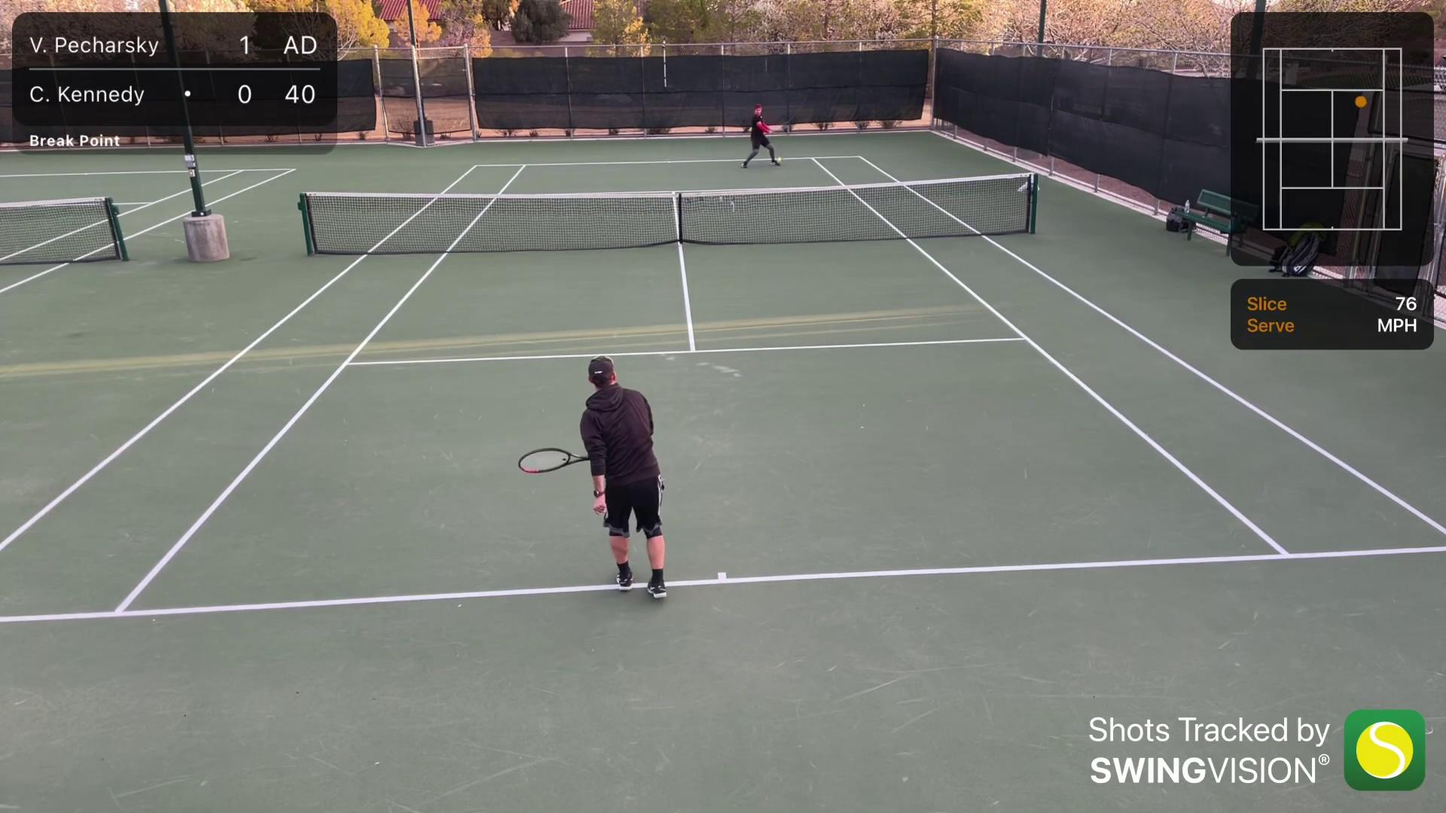ball: (776, 155, 783, 163)
